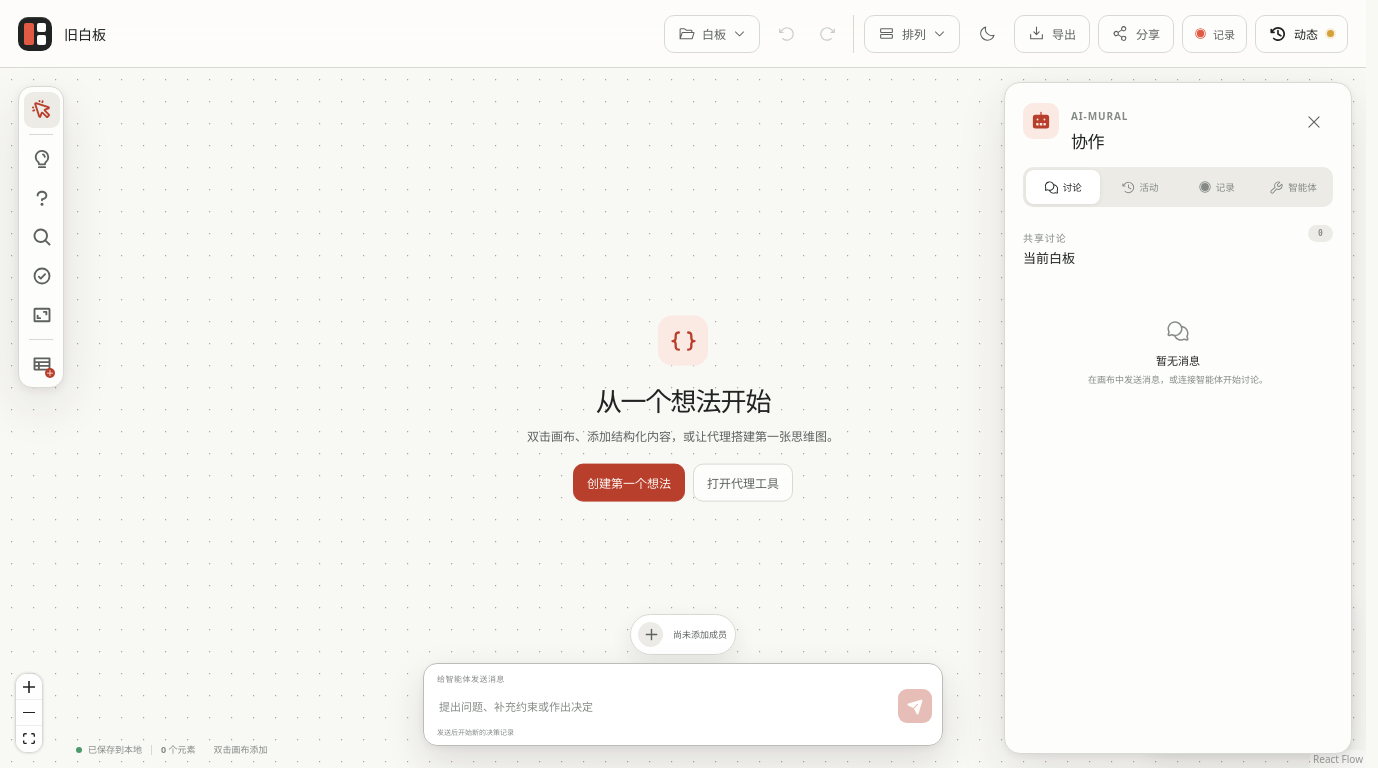
Test: 讨论入口 › 无讨论成员时不显示虚构成员，录制明确失败
Expected: the button "尚未添加成员" is shown, [673, 628, 727, 641]
Click the button "记录" in the row of "排列" at (1214, 34), box [1182, 14, 1247, 52]
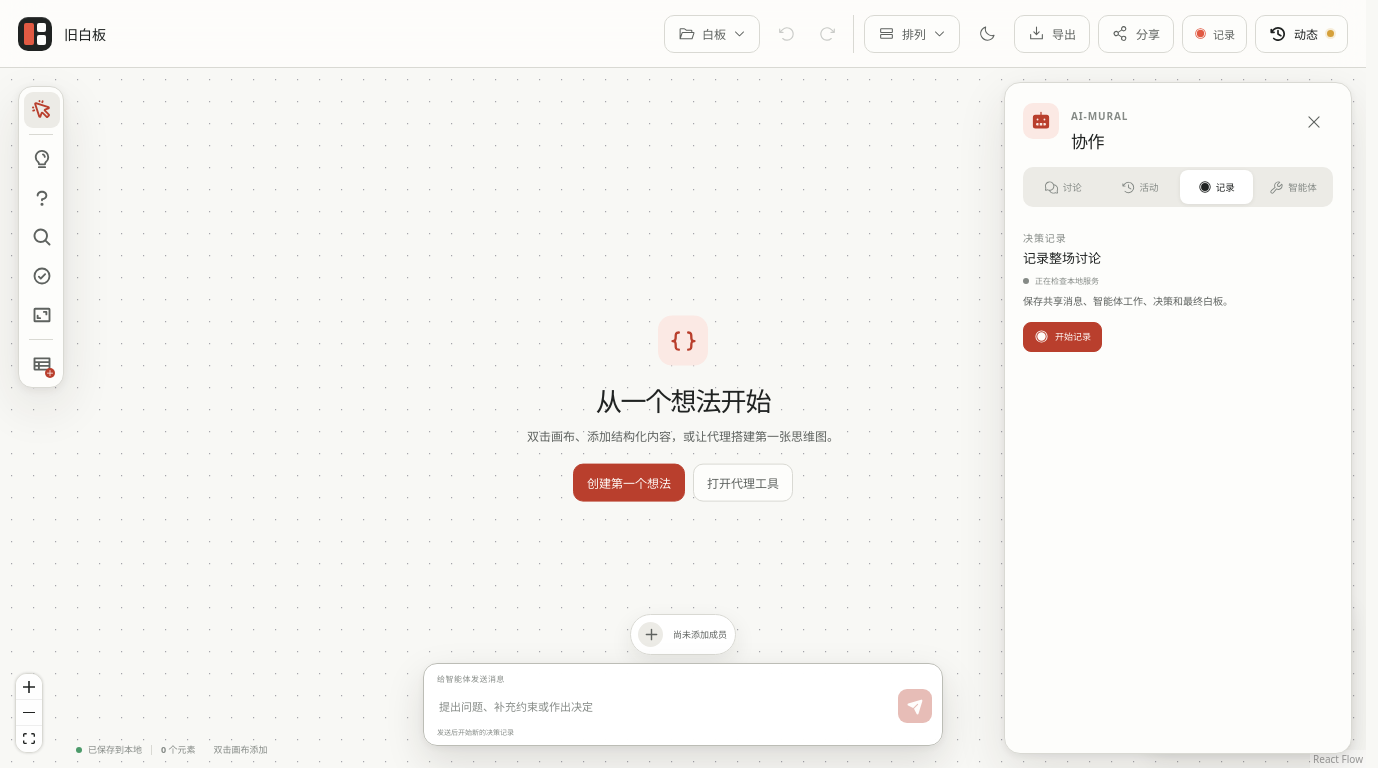
Click the button "开始记录" at (1062, 337), box [1023, 322, 1102, 352]
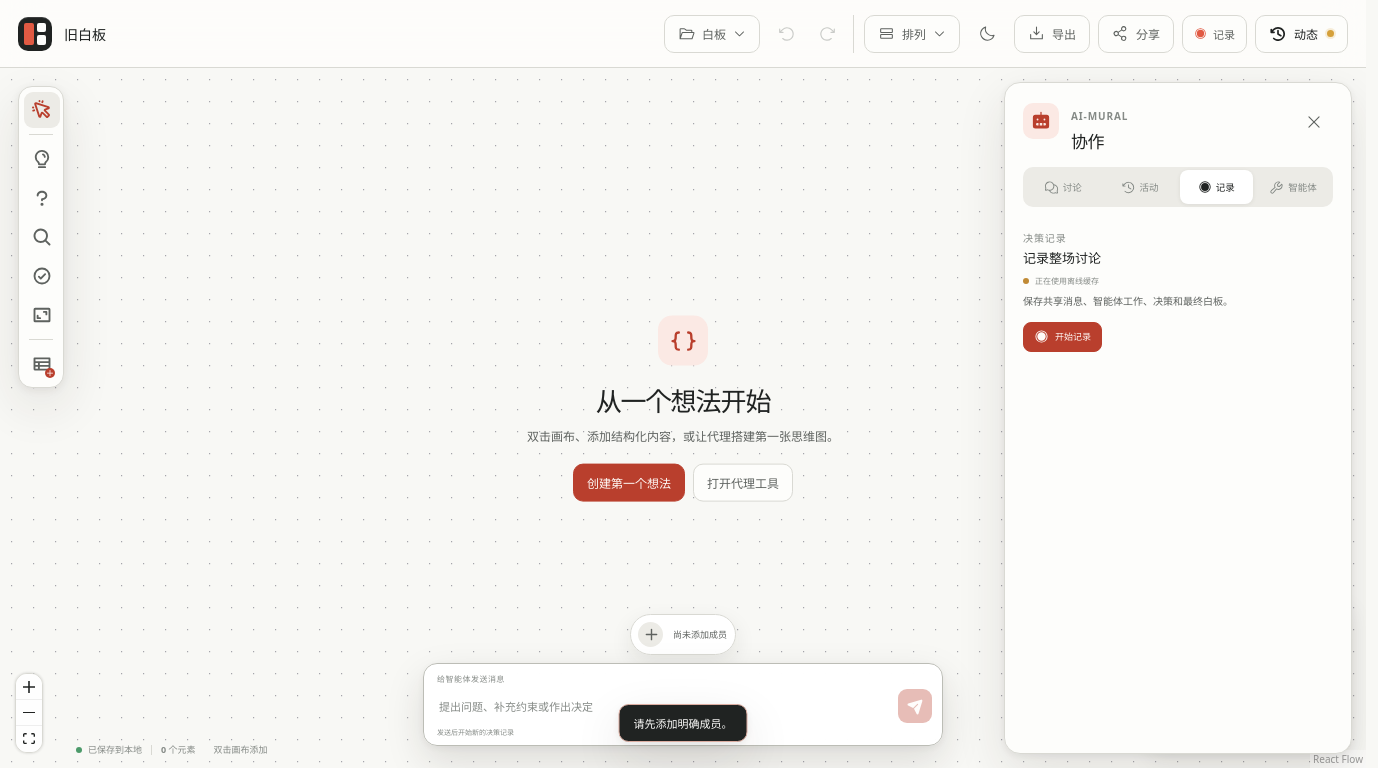
Expected: the message shows "明确成员", [634, 716, 732, 731]
